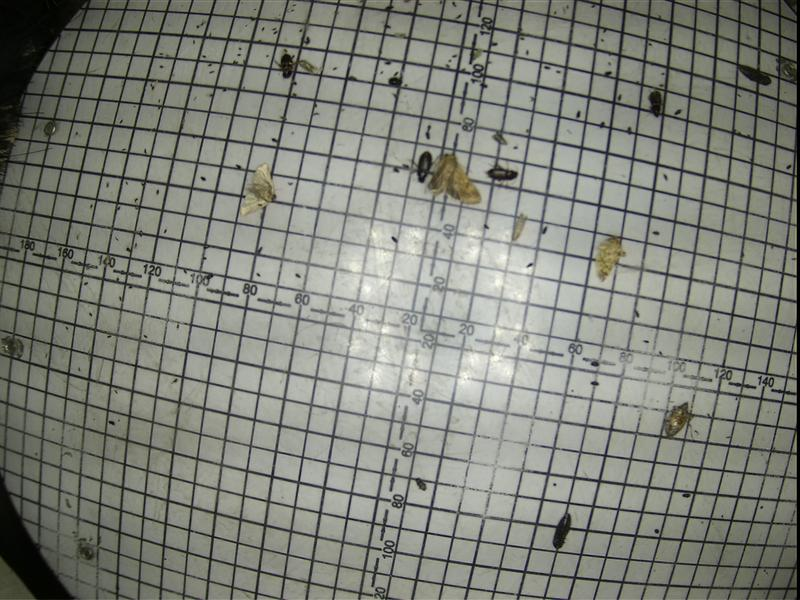Agriotes fuscicollis Miwa: (547, 512, 573, 549), (735, 59, 769, 86)
Bollworm: (426, 146, 479, 205)
